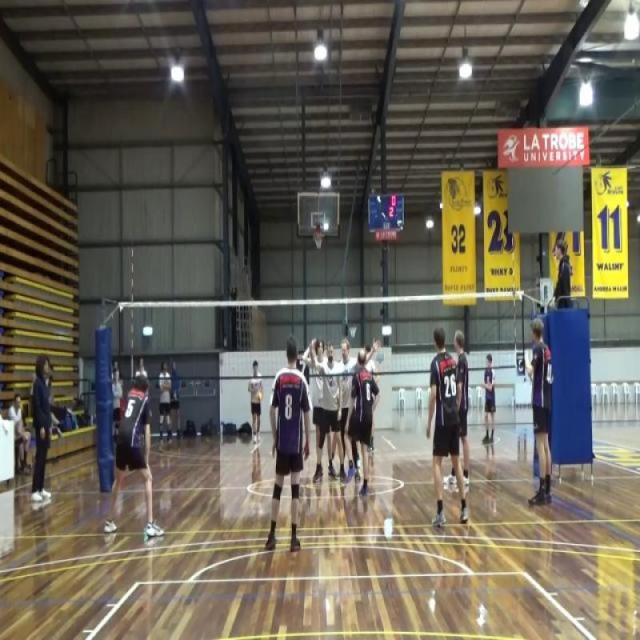volleyball: (255, 391, 262, 404)
